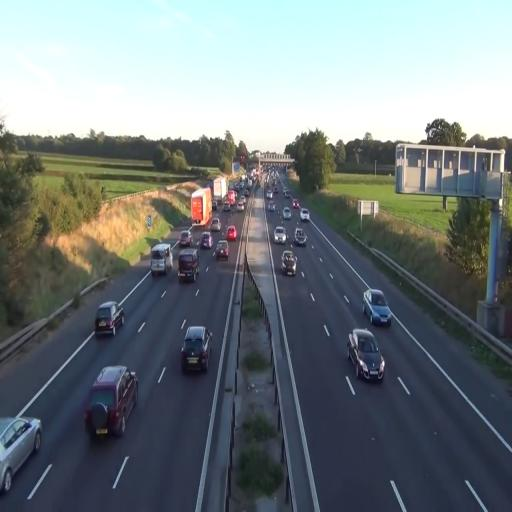vehicle: (83, 365, 139, 439), (84, 366, 138, 438), (0, 414, 42, 495), (0, 417, 41, 494), (347, 329, 386, 382), (348, 329, 384, 381), (180, 324, 211, 374), (181, 326, 212, 372), (190, 185, 212, 242), (363, 288, 391, 328), (94, 301, 125, 337), (95, 301, 124, 337), (364, 289, 391, 326), (150, 243, 172, 278), (191, 188, 211, 225), (178, 250, 199, 284), (178, 249, 199, 283), (151, 244, 173, 275), (281, 248, 297, 276), (282, 251, 297, 276), (214, 240, 230, 261), (294, 225, 307, 247), (214, 178, 227, 200), (216, 240, 229, 259), (179, 230, 193, 247), (274, 226, 287, 244), (274, 227, 287, 243), (200, 232, 213, 248), (201, 232, 212, 250), (295, 228, 306, 246), (226, 225, 238, 241), (226, 226, 237, 241), (210, 218, 221, 231), (300, 209, 309, 221), (228, 191, 235, 206), (283, 207, 291, 219), (268, 201, 275, 211), (236, 202, 243, 211), (293, 199, 299, 209), (212, 200, 217, 211), (224, 202, 230, 211), (267, 190, 273, 199), (229, 182, 236, 189), (240, 196, 246, 204), (284, 190, 290, 198), (244, 189, 249, 197), (274, 186, 278, 194), (266, 181, 270, 189), (248, 180, 252, 188), (272, 178, 276, 185)
